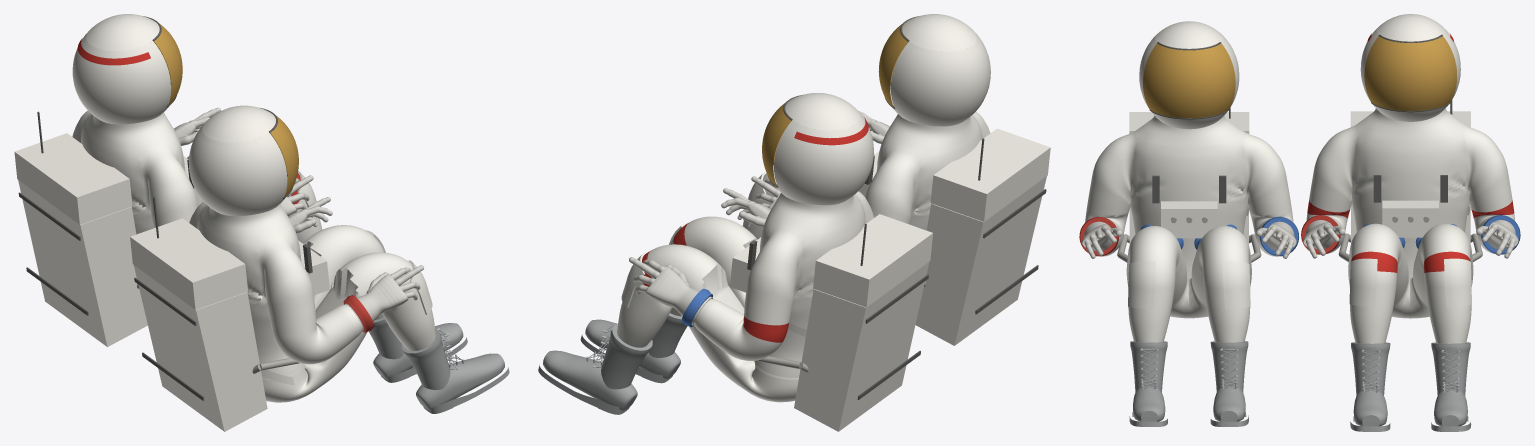
Rendered from riders.glb.
3 renders of one model, left to right at view 1: azimuth 30°, elevation 25°; view 2: azimuth 150°, elevation 25°; view 3: azimuth 270°, elevation 25°, orthographic. The views are drawn at different scales.
Visible parts, largest first — view 1: Schmitt_Helmet_OuterThermalCover, Cernan_Helmet_OuterThermalCover, Schmitt_Arms_Sleeves, Cernan_Legs_Stowage, Schmitt_Boots_Laces, Schmitt_Gloves_PressureGloves, Cernan_Gloves_PressureGloves, Schmitt_Helmet_VisorRim, Cernan_Helmet_GoldSunVisor, Schmitt_Helmet_GoldSunVisor, Cernan_Helmet_VisorRim, Cernan_Helmet_CommanderBand (+1 smaller); view 2: Cernan_Helmet_OuterThermalCover, Schmitt_Helmet_OuterThermalCover, Cernan_Legs_Stowage, Cernan_Legs_Trousers, Schmitt_Arms_Sleeves, Cernan_Boots_Laces, Cernan_Arms_Sleeves, Cernan_Gloves_PressureGloves, Cernan_Helmet_VisorRim, Cernan_Helmet_GoldSunVisor, Schmitt_Helmet_GoldSunVisor, Schmitt_Helmet_VisorRim (+2 smaller); view 3: Schmitt_Arms_Sleeves, Cernan_Legs_Stowage, Cernan_Legs_Trousers, Schmitt_Helmet_GoldSunVisor, Cernan_Helmet_GoldSunVisor, Cernan_Boots_Laces, Schmitt_Helmet_OuterThermalCover, Schmitt_Boots_Laces, Cernan_Helmet_OuterThermalCover, Cernan_Gloves_PressureGloves, Schmitt_Gloves_PressureGloves, Cernan_Arms_Sleeves (+8 smaller).
Boxes of the visible parts, <box> form: Schmitt_Helmet_OuterThermalCover: <box>130,105,329,431</box>; Cernan_Helmet_OuterThermalCover: <box>14,14,203,346</box>; Schmitt_Arms_Sleeves: <box>189,202,435,402</box>; Cernan_Legs_Stowage: <box>72,111,319,234</box>; Schmitt_Boots_Laces: <box>368,317,509,413</box>; Schmitt_Gloves_PressureGloves: <box>288,197,423,330</box>; Cernan_Gloves_PressureGloves: <box>174,107,313,215</box>; Schmitt_Helmet_VisorRim: <box>134,107,312,400</box>; Cernan_Helmet_GoldSunVisor: <box>154,24,182,105</box>; Schmitt_Helmet_GoldSunVisor: <box>270,115,298,197</box>; Cernan_Helmet_VisorRim: <box>18,16,194,315</box>; Cernan_Helmet_CommanderBand: <box>77,38,150,65</box>; Cernan_Helmet_OuterThermalCover: <box>729,93,933,431</box>; Schmitt_Helmet_OuterThermalCover: <box>858,14,1050,345</box>; Cernan_Legs_Stowage: <box>621,191,873,377</box>; Cernan_Legs_Trousers: <box>617,216,798,402</box>; Schmitt_Arms_Sleeves: <box>742,112,990,239</box>; Cernan_Boots_Laces: <box>538,313,687,414</box>; Cernan_Arms_Sleeves: <box>694,299,789,360</box>; Cernan_Gloves_PressureGloves: <box>629,188,770,325</box>; Cernan_Helmet_VisorRim: <box>747,95,928,399</box>; Cernan_Helmet_GoldSunVisor: <box>762,102,791,185</box>; Schmitt_Helmet_GoldSunVisor: <box>878,24,907,107</box>; Schmitt_Helmet_VisorRim: <box>864,16,1046,314</box>; Schmitt_Arms_Sleeves: <box>1085,116,1293,342</box>; Cernan_Legs_Stowage: <box>1309,108,1511,307</box>; Cernan_Legs_Trousers: <box>1348,223,1473,343</box>; Schmitt_Helmet_GoldSunVisor: <box>1143,43,1235,118</box>; Cernan_Helmet_GoldSunVisor: <box>1364,36,1456,111</box>; Cernan_Boots_Laces: <box>1350,342,1471,431</box>; Schmitt_Helmet_OuterThermalCover: <box>1129,21,1249,244</box>; Schmitt_Boots_Laces: <box>1129,341,1248,426</box>; Cernan_Helmet_OuterThermalCover: <box>1350,14,1470,243</box>; Cernan_Gloves_PressureGloves: <box>1303,220,1518,258</box>; Schmitt_Gloves_PressureGloves: <box>1082,221,1296,258</box>; Cernan_Arms_Sleeves: <box>1306,197,1514,254</box>.
Size of the model in its own units: 1.18 by 1.14 by 1.42.
